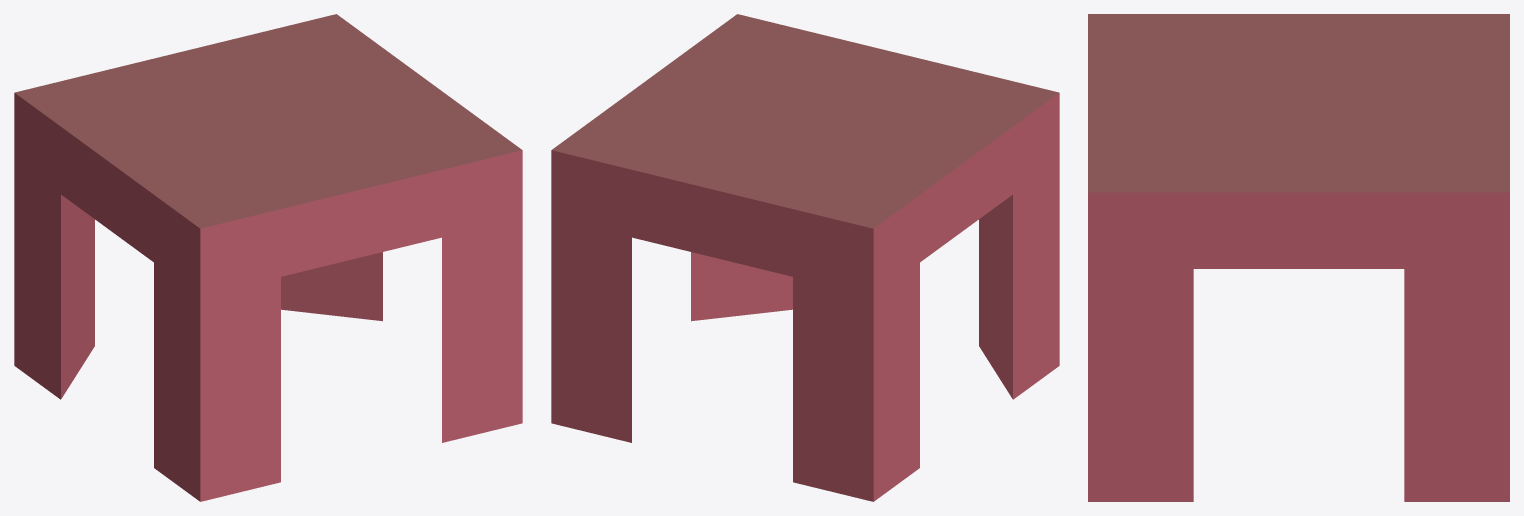
Rendered from Dummy_CHAIR.FBX.
The picture shows the model from 3 angles, left to right: view 1: azimuth 30°, elevation 25°; view 2: azimuth 150°, elevation 25°; view 3: azimuth 270°, elevation 25°; orthographic projection. The views are drawn at different scales.
Parts seen in each view (by area): view 1: Dummy_CHAIR; view 2: Dummy_CHAIR; view 3: Dummy_CHAIR.
Part boxes in pixels (left/top/right/bottom): Dummy_CHAIR: left=14, top=14, right=522, bottom=501; Dummy_CHAIR: left=551, top=14, right=1059, bottom=501; Dummy_CHAIR: left=1088, top=14, right=1509, bottom=501.
Size of the model in its own units: 37.02 by 30 by 37.02.
